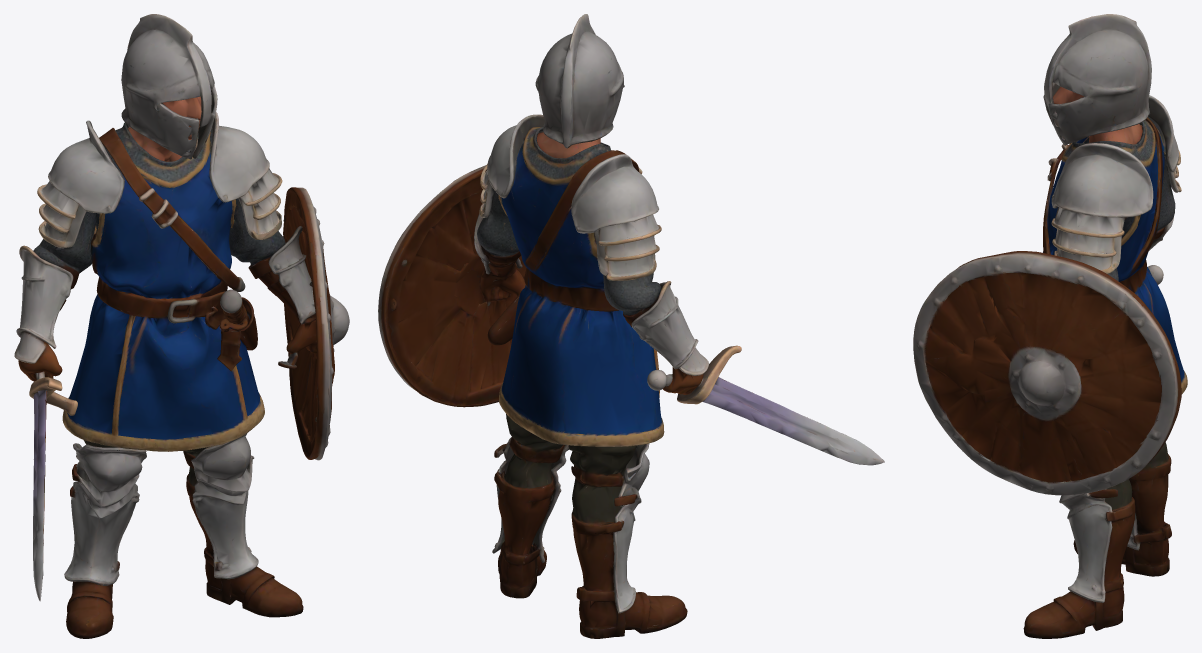
Rendered from detail_1.glb.
3 views of the same model, side by side, from view 1: azimuth 30°, elevation 25°; view 2: azimuth 150°, elevation 25°; view 3: azimuth 270°, elevation 25° (orthographic). The views are drawn at different scales.
Size of the model in its own units: 0.6783 by 0.9993 by 0.4302.
Materials: 1 (1 with a texture image).
